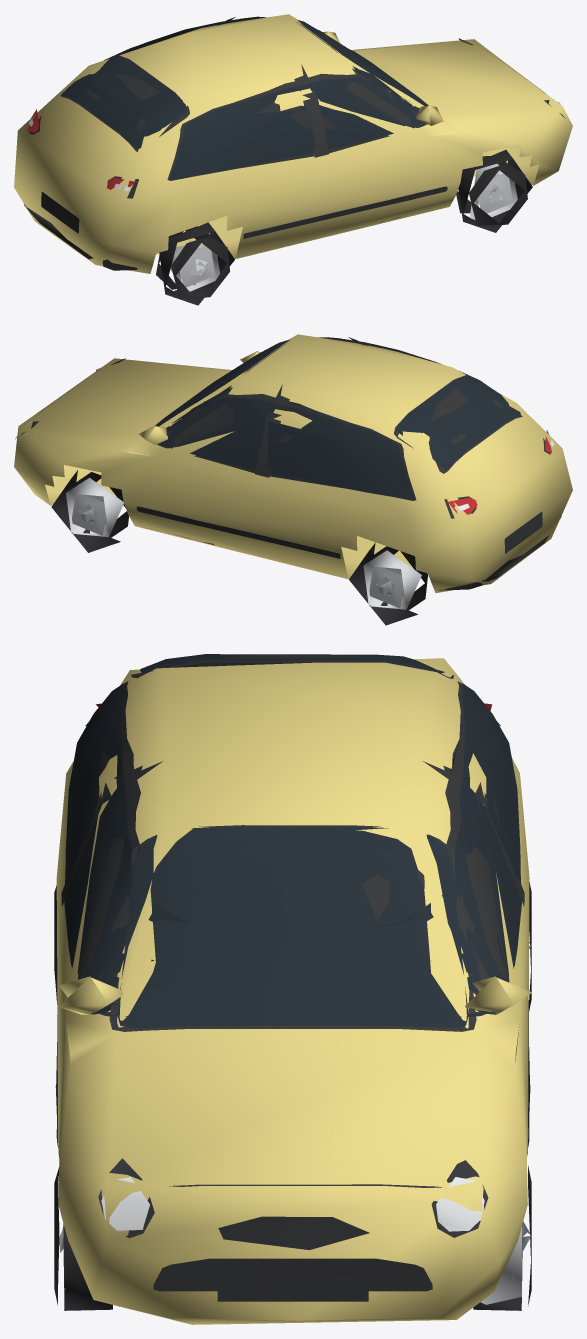
The model's file is mistral_ufar.glb.
The picture shows the model from 3 angles, top to bottom: view 1: azimuth 30°, elevation 25°; view 2: azimuth 150°, elevation 25°; view 3: azimuth 270°, elevation 25°; orthographic projection. The views are drawn at different scales.
Visible parts, largest first — view 1: Body, Glass-1, RearGlass, WheelRR, WheelFR, WinFrame-1, Windshield, Rub-1, RgFrame, Bpillar-1, Diffuser, PlateR (+2 smaller); view 2: Body, Glass1, RearGlass, WheelRL, WheelFL, WinFrame1, Windshield, Rub1, RgFrame, Bpillar1, PlateR, Diffuser (+1 smaller); view 3: Body, Windshield, Glass1, Glass-1, Intake, WinFrame-1, WinFrame1, Grille, WsFrame, HeadReflector, WheelFR, WheelFL (+7 smaller).
Boxes of the visible parts, x1,y1,x2,y2 form: Body: [14, 14, 572, 273]; Glass-1: [170, 77, 425, 179]; RearGlass: [63, 55, 187, 148]; WheelRR: [156, 222, 234, 305]; WheelFR: [456, 150, 532, 232]; WinFrame-1: [167, 73, 427, 180]; Windshield: [298, 20, 428, 106]; Rub-1: [243, 186, 447, 238]; RgFrame: [60, 55, 189, 151]; Bpillar-1: [294, 64, 328, 157]; Diffuser: [24, 204, 137, 270]; PlateR: [41, 192, 79, 233]; Body: [14, 334, 572, 593]; Glass1: [159, 394, 413, 499]; RearGlass: [397, 375, 520, 469]; WheelRL: [349, 542, 427, 625]; WheelFL: [51, 470, 128, 552]; WinFrame1: [157, 394, 416, 500]; Windshield: [155, 339, 289, 426]; Rub1: [136, 506, 340, 558]; RgFrame: [394, 375, 522, 473]; Bpillar1: [255, 384, 289, 477]; PlateR: [504, 511, 542, 553]; Diffuser: [438, 516, 561, 590]; Body: [56, 658, 529, 1324]; Windshield: [117, 826, 468, 1028]; Glass1: [376, 684, 520, 1017]; Glass-1: [65, 684, 190, 1017]; Intake: [153, 1258, 432, 1291]; WinFrame-1: [64, 681, 140, 1021]; WinFrame1: [386, 681, 521, 1021]; Grille: [218, 1216, 369, 1249]; WsFrame: [109, 825, 476, 1031]; HeadReflector: [101, 1177, 484, 1231]; WheelFR: [54, 1167, 112, 1310]; WheelFL: [473, 1165, 531, 1310].
Bounding box in the file's own units: 3.87 × 1.52 × 1.71.
